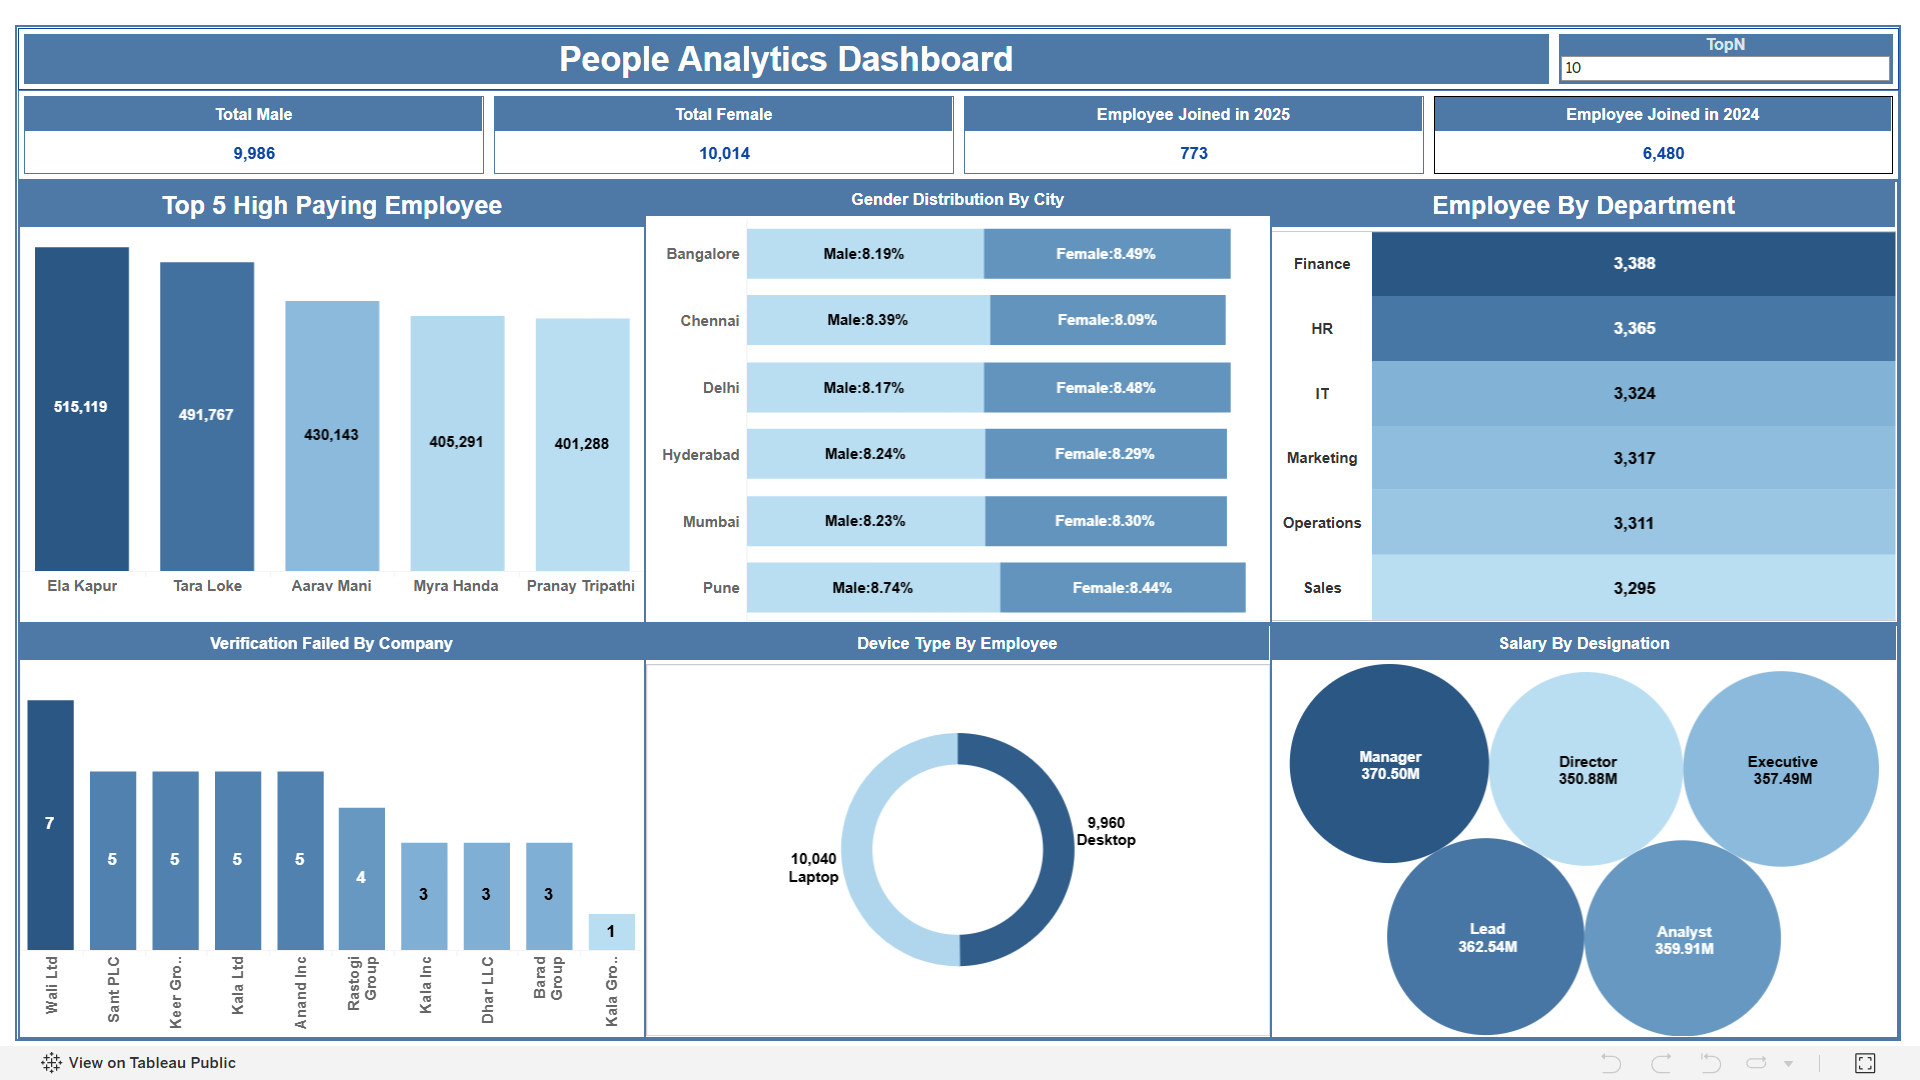

The page's visual inventory and layout, read from the dashboard file:
{"tool":"tableau","page":{"name":"Summary","canvas":[1000,1000],"units":"permille","ordinal":0},"visuals":[{"type":"text","box":[9.5,27.9,726.2,69.7]},{"type":"parameter","param":"[Parameters].[Parameter 1]","box":[735.7,27.9,100,69.7]},{"type":"worksheet","title":"Total Male","mark":"Automatic","box":[9.5,99.9,207,81.3]},{"type":"worksheet","title":"Total Female","mark":"Automatic","box":[216.4,99.9,206.4,81.3]},{"type":"worksheet","title":"Employee Joined in 2025","mark":"Automatic","box":[422.8,99.9,206.4,81.3]},{"type":"worksheet","title":"Employee Joined in 2024","mark":"Automatic","box":[629.2,99.9,206.4,81.3]},{"type":"worksheet","title":"Top 5 High Paying Employee","mark":"Automatic","rows":["Salary"],"cols":["Employee Name"],"box":[9.5,183.5,275.6,370.5]},{"type":"worksheet","title":"Gender Distribution By City","mark":"Automatic","rows":["Office Location"],"cols":["Employee_ID"],"box":[285,183.5,275.6,370.5]},{"type":"worksheet","title":"Employee By Department","mark":"Square","rows":["Department"],"box":[560.6,183.5,275,370.5]},{"type":"worksheet","title":"Verification Failed By Company","mark":"Automatic","rows":["Employee_ID (Background Verification)"],"cols":["Previous Company"],"box":[9.5,556.3,275.6,399.5]},{"type":"worksheet","title":"Device Type By Employee","mark":"Pie","rows":["Calculation_0451350160703488","Calculation_0451350160703488"],"box":[285,556.3,275.6,399.5]},{"type":"worksheet","title":"Salary By Designation","mark":"Circle","box":[560.6,556.3,275,399.5]}]}

Visuals, with their boxes on the dashboard's canvas, which has no fixed pixel size, in thousandths of its width and height (x1, y1, x2, y2). These are canvas units, not pixel positions in the 1920x1080 screenshot, which may show the page scaled, cropped or inside an application window:
text: crop(10, 28, 736, 98)
parameter: crop(736, 28, 836, 98)
"Total Male" worksheet: crop(10, 100, 216, 181)
"Total Female" worksheet: crop(216, 100, 423, 181)
"Employee Joined in 2025" worksheet: crop(423, 100, 629, 181)
"Employee Joined in 2024" worksheet: crop(629, 100, 836, 181)
"Top 5 High Paying Employee" worksheet: crop(10, 184, 285, 554)
"Gender Distribution By City" worksheet: crop(285, 184, 561, 554)
"Employee By Department" worksheet (Square marks): crop(561, 184, 836, 554)
"Verification Failed By Company" worksheet: crop(10, 556, 285, 956)
"Device Type By Employee" worksheet (Pie marks): crop(285, 556, 561, 956)
"Salary By Designation" worksheet (Circle marks): crop(561, 556, 836, 956)
